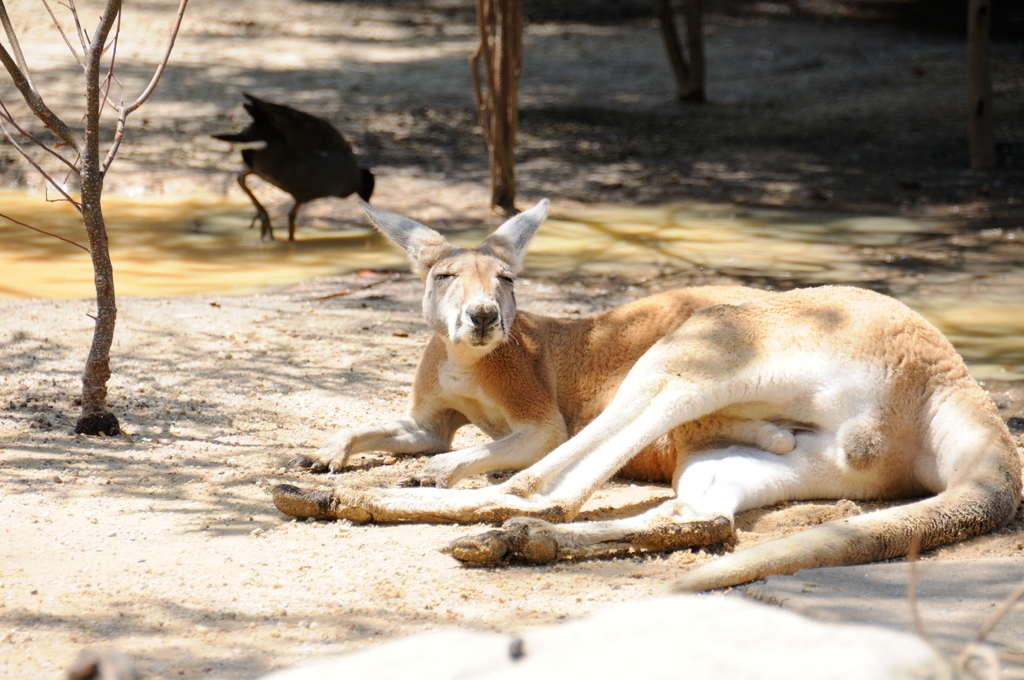kangaroo: (268, 194, 1020, 590)
